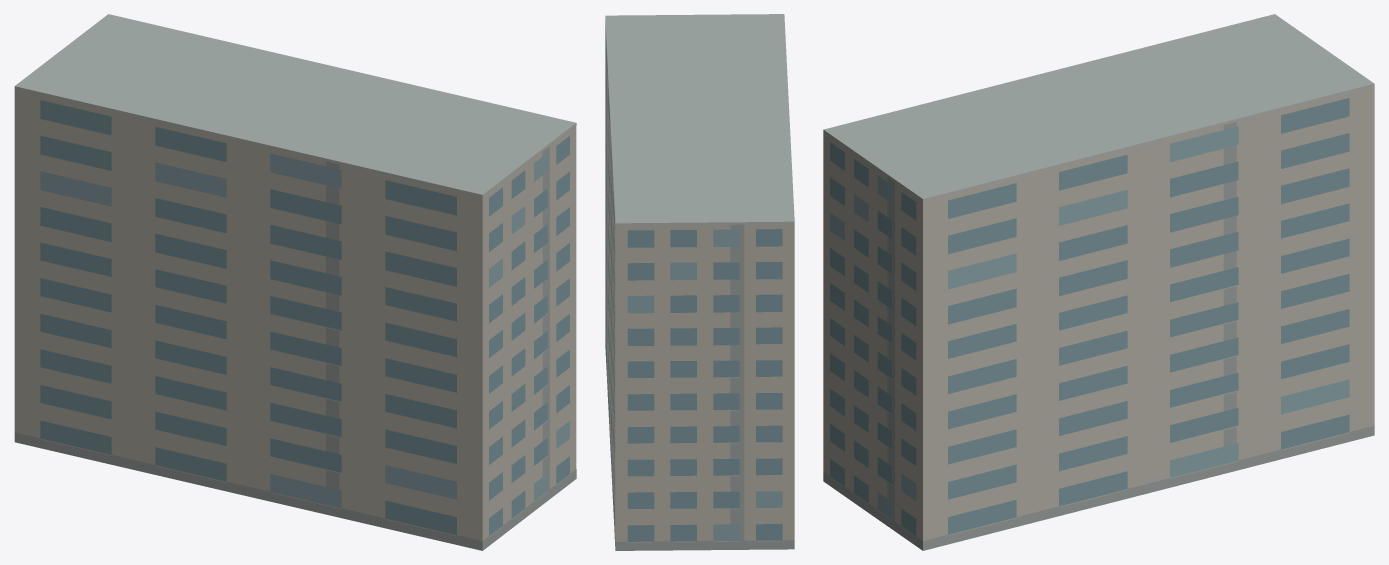
The model's file is residential-f641c07f-8181-483b-8d17-6c5b1ad50eeb.glb.
3 views of the same model, side by side, from view 1: azimuth 30°, elevation 25°; view 2: azimuth 150°, elevation 25°; view 3: azimuth 270°, elevation 25° (orthographic). The views are drawn at different scales.
Visible parts, largest first — view 1: residential-f641c07f-8181-483b-8d17-6c5b1ad50eeb.tmp; view 2: residential-f641c07f-8181-483b-8d17-6c5b1ad50eeb.tmp; view 3: residential-f641c07f-8181-483b-8d17-6c5b1ad50eeb.tmp.
Part boxes in pixels (<box>): residential-f641c07f-8181-483b-8d17-6c5b1ad50eeb.tmp: <box>14,14,576,550</box>; residential-f641c07f-8181-483b-8d17-6c5b1ad50eeb.tmp: <box>605,14,794,550</box>; residential-f641c07f-8181-483b-8d17-6c5b1ad50eeb.tmp: <box>823,14,1374,550</box>.
Size of the model in its own units: 34.99 by 31 by 44.03.
